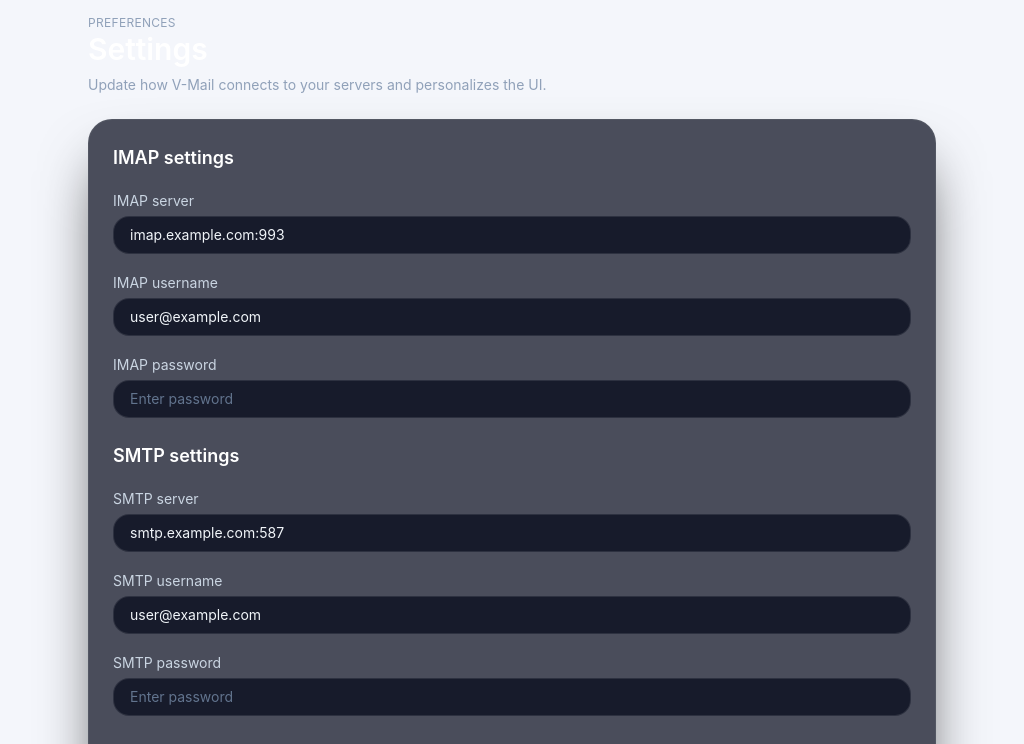
SettingsPage › should show success message after saving
Check: the field showing "imap.example.com:993" is shown, box [113,216,911,254]
In the password field labelled "IMAP password": coordinates (512, 399) [113,380,911,418], type "test123"
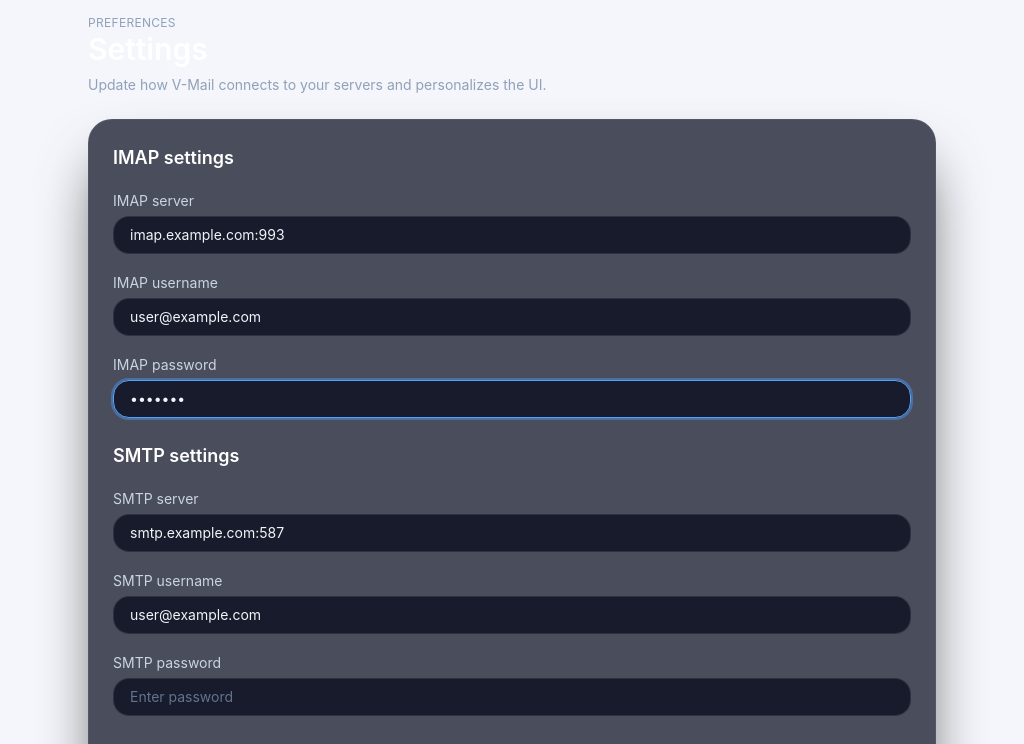
In the password field labelled "SMTP password": coordinates (512, 697) [113,678,911,716], type "test123"
(page scrolled)
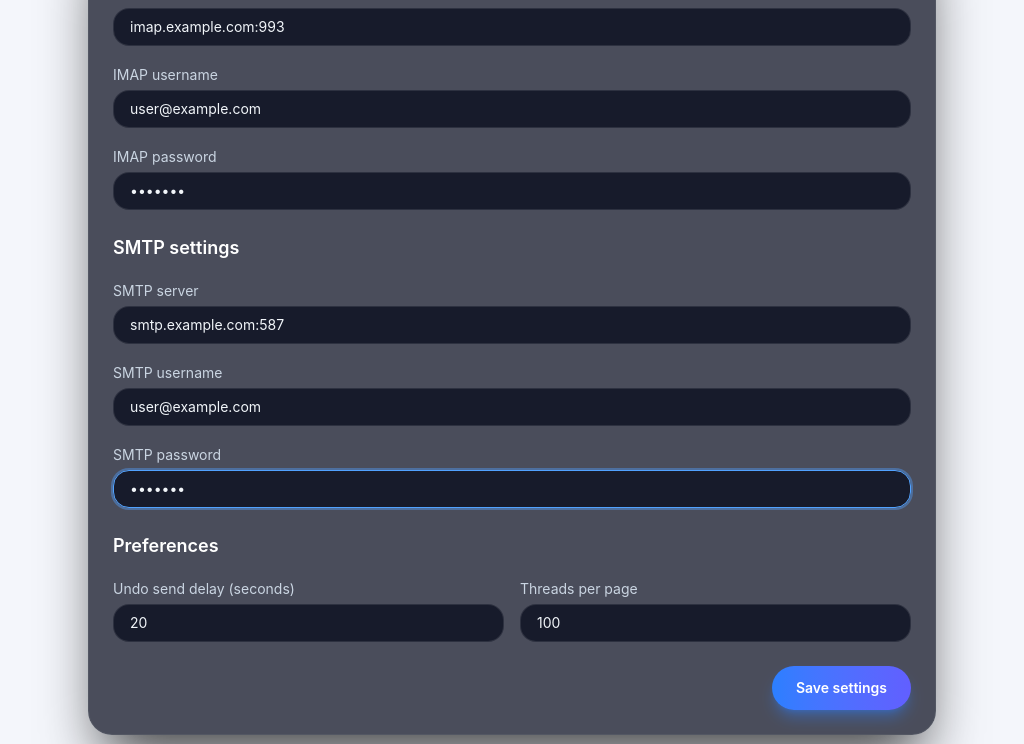
Click the button "Save settings": coordinates (841, 688) [772,666,911,710]
(page scrolled)
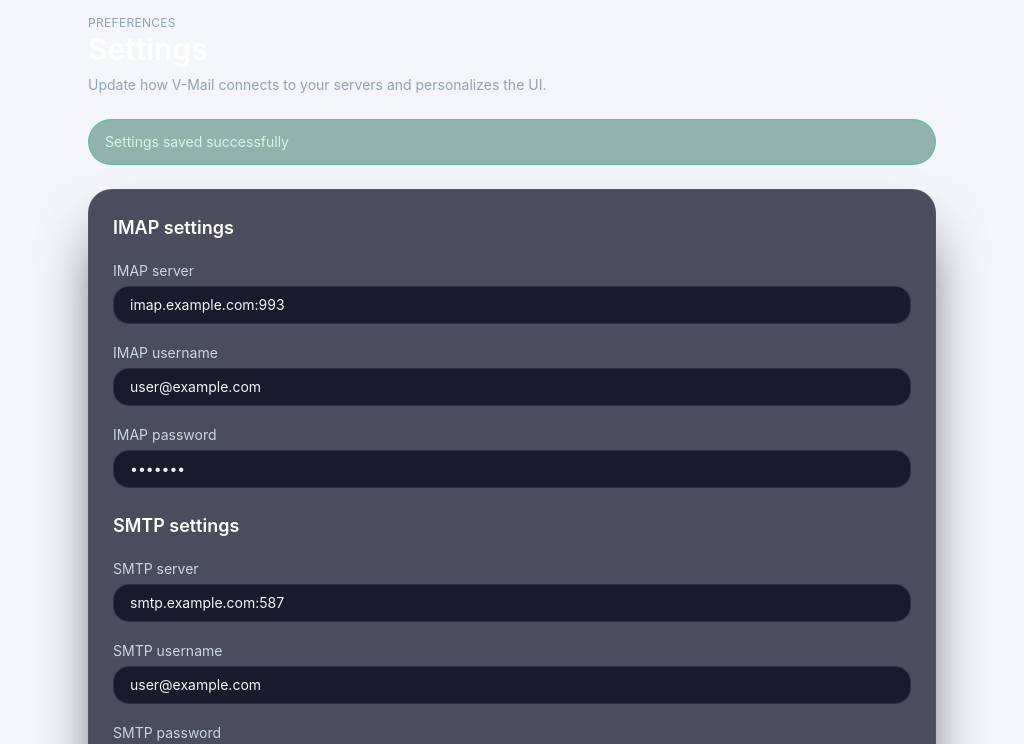
Check: the text "Settings saved successfully" is shown, box [88,119,936,165]
